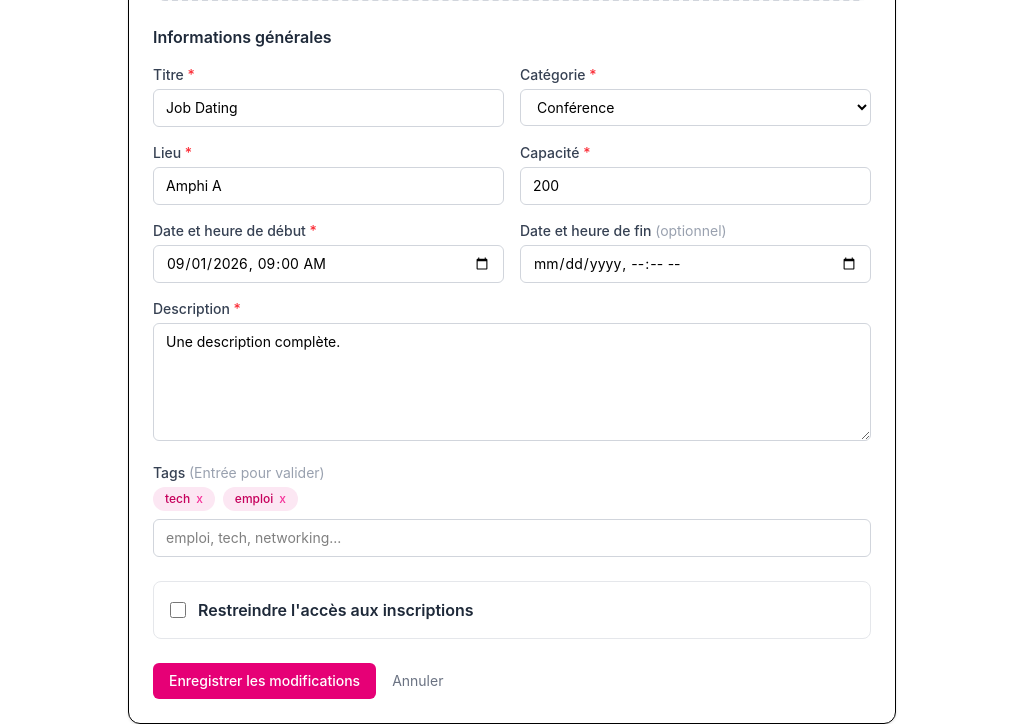
Scenario: EventEditPage › shows confirmation dialog after valid submit
(page scrolled)
Click the button "Enregistrer les modifications" at (265, 681), box [153,663,376,699]
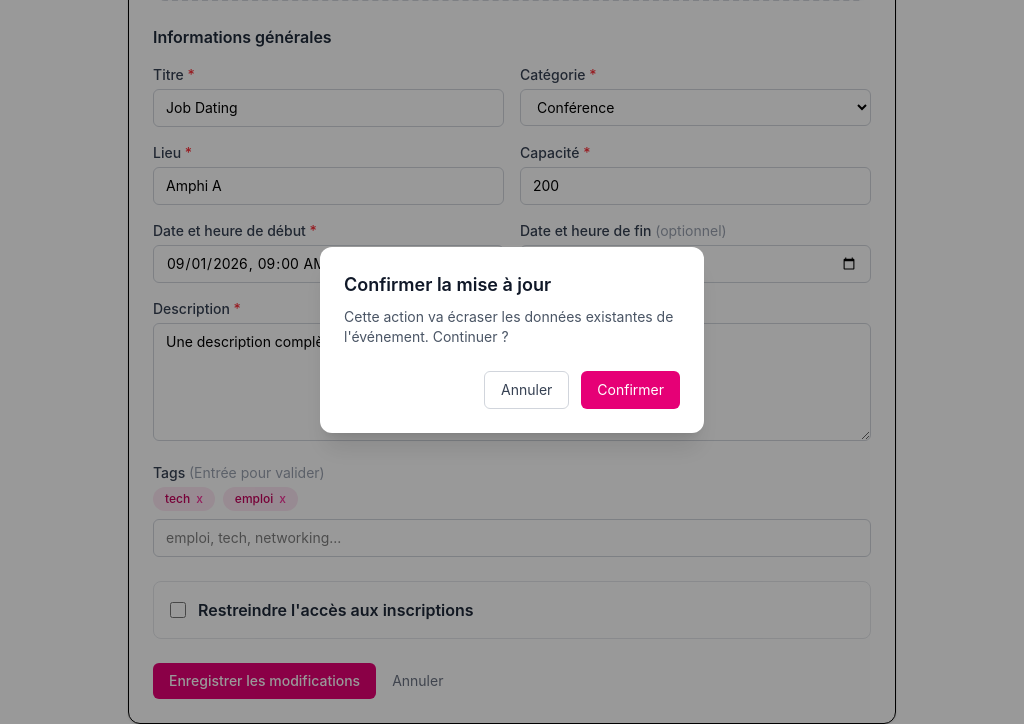
Check: the heading "Confirmer la mise à jour" is shown, box [344,274,551,295]
Check: the button "Confirmer" is shown, box [581,371,680,409]
Check: the button "Annuler" is shown, box [484,371,569,409]
